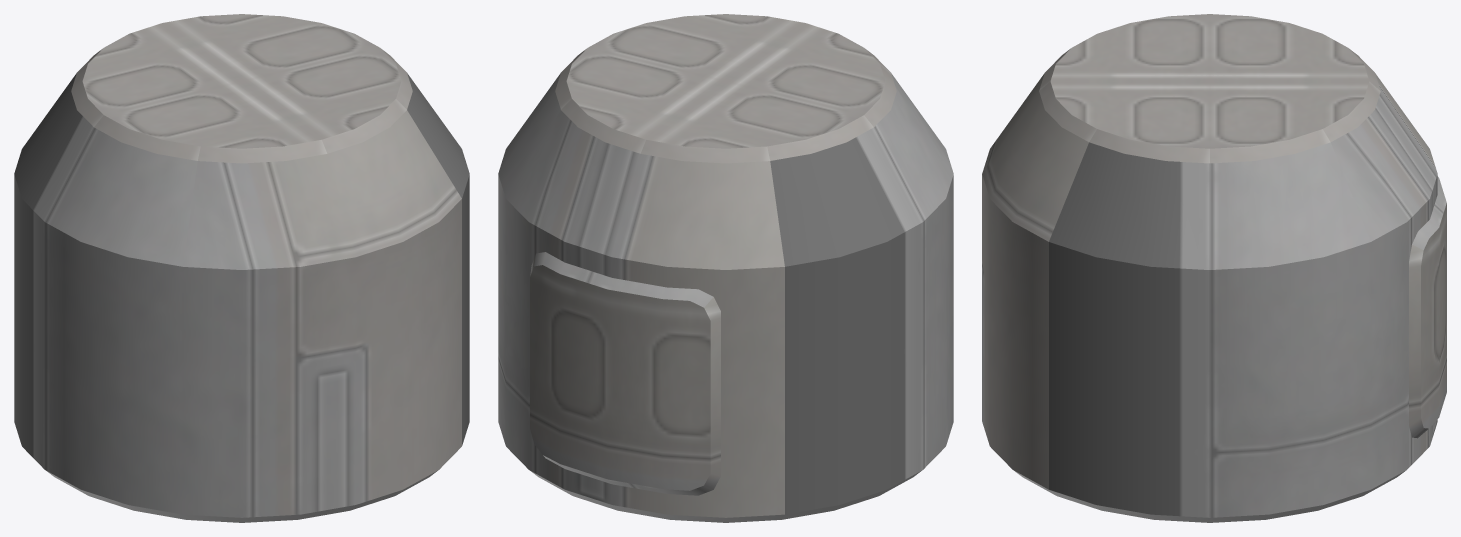
The model's file is vega_crew_s1_2_1.obj.
3 views of the same model, side by side, from view 1: azimuth 30°, elevation 25°; view 2: azimuth 150°, elevation 25°; view 3: azimuth 270°, elevation 25° (orthographic).
Visible parts, largest first — view 1: Vega_Habitation_2_1; view 2: Vega_Habitation_2_1; view 3: Vega_Habitation_2_1.
Part boxes in pixels (x1,y1,x2,y2): Vega_Habitation_2_1: [14, 14, 469, 522]; Vega_Habitation_2_1: [498, 14, 953, 522]; Vega_Habitation_2_1: [982, 14, 1446, 522].
Size of the model in its own units: 1.25 by 1.06 by 1.27.
